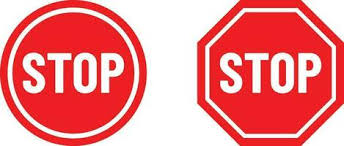stop sign: (197, 1, 344, 146), (1, 2, 147, 146)
